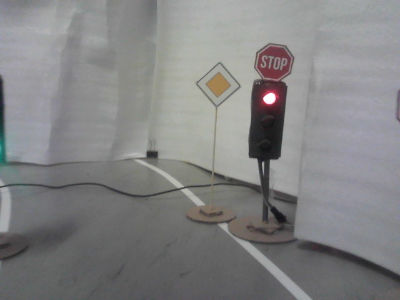priority_road: (197, 63, 240, 106)
stop: (255, 43, 292, 80)
trafficlight_red: (253, 82, 282, 159)
